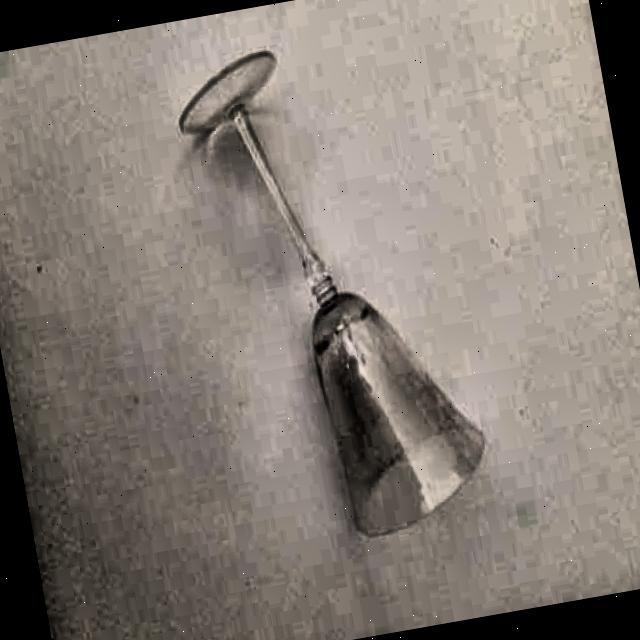glass: (168, 23, 498, 556)
